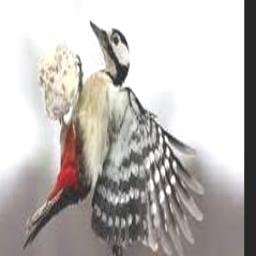Woodpecker: (22, 20, 205, 256)
